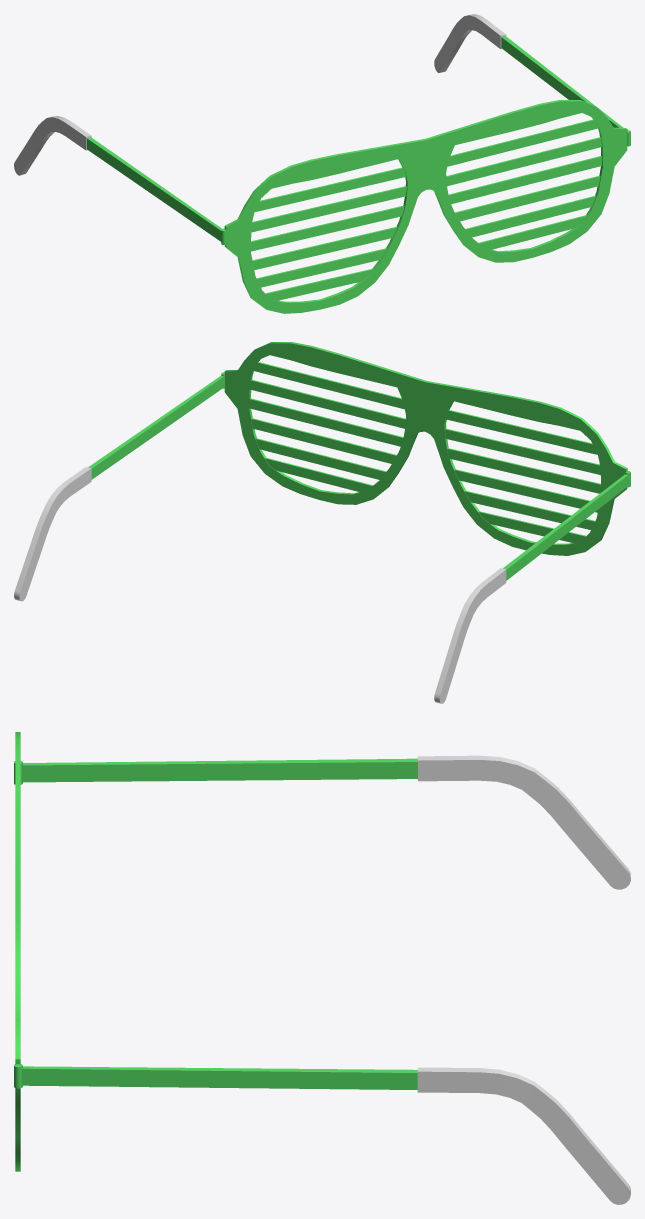
Rendered from shutter.glb.
3 renders of one model, top to bottom at view 1: azimuth 30°, elevation 25°; view 2: azimuth 150°, elevation 25°; view 3: azimuth 270°, elevation 25°, orthographic. The views are drawn at different scales.
Visible parts, largest first — view 1: glasses22.001_glasses22.001_Base, glasses22.001_glasses22.001_black; view 2: glasses22.001_glasses22.001_Base, glasses22.001_glasses22.001_black; view 3: glasses22.001_glasses22.001_Base, glasses22.001_glasses22.001_black.
Boxes of the visible parts, <box> form: glasses22.001_glasses22.001_Base: <box>86,36,630,313</box>; glasses22.001_glasses22.001_black: <box>14,14,506,175</box>; glasses22.001_glasses22.001_Base: <box>88,342,630,580</box>; glasses22.001_glasses22.001_black: <box>14,467,506,703</box>; glasses22.001_glasses22.001_Base: <box>14,732,417,1171</box>; glasses22.001_glasses22.001_black: <box>417,755,630,1204</box>.
Bounding box in the file's own units: 1.98 × 0.6714 × 1.62.
